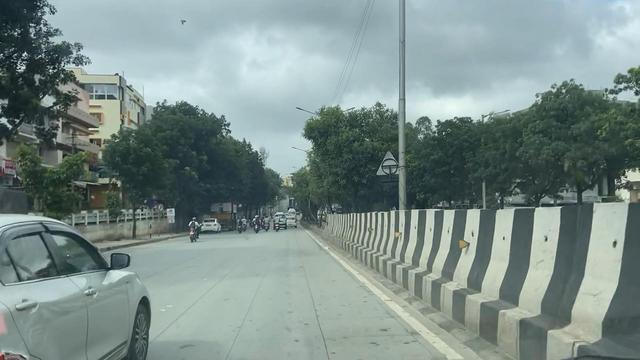LMV: (0, 209, 152, 360)
